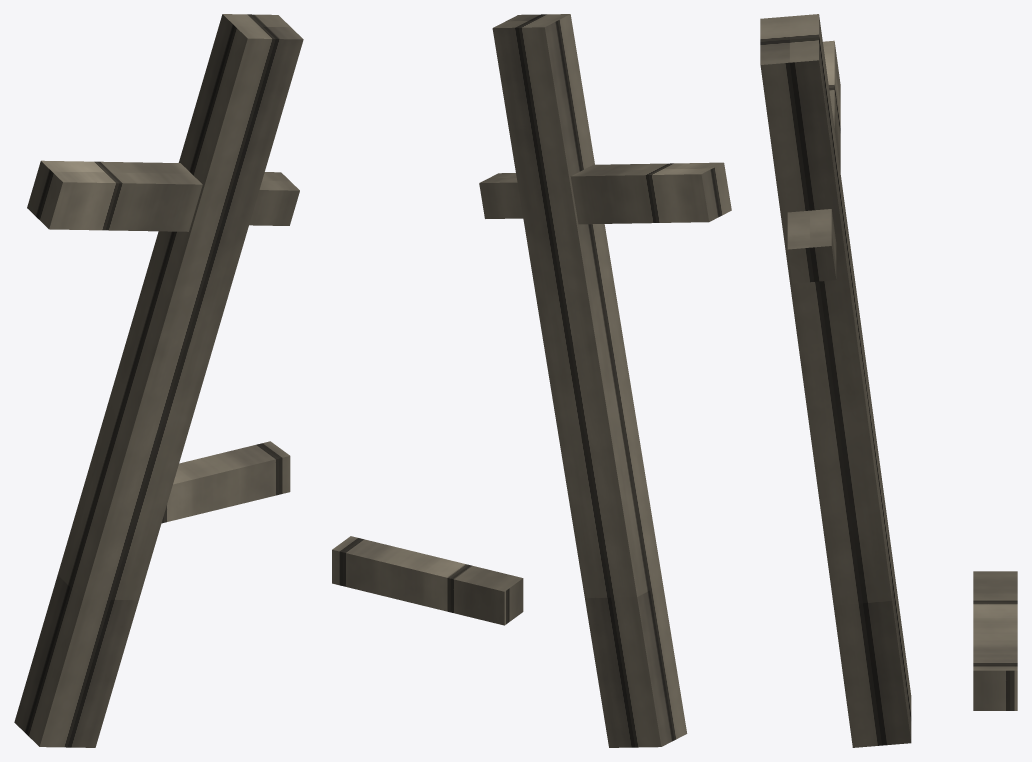
File: Cross_Wood_3.gltf
The picture shows the model from 3 angles, left to right: view 1: azimuth 30°, elevation 25°; view 2: azimuth 150°, elevation 25°; view 3: azimuth 270°, elevation 25°; orthographic projection. The views are drawn at different scales.
Visible parts, largest first — view 1: Cross_Wood_3; view 2: Cross_Wood_3; view 3: Cross_Wood_3.
Boxes of the visible parts, x1,y1,x2,y2 form: Cross_Wood_3: (14,14,303,747); Cross_Wood_3: (332,14,731,747); Cross_Wood_3: (760,14,1017,747).
Size of the model in its own units: 0.5628 by 1.19 by 0.3491.
Materials: 1 (1 with a texture image).
